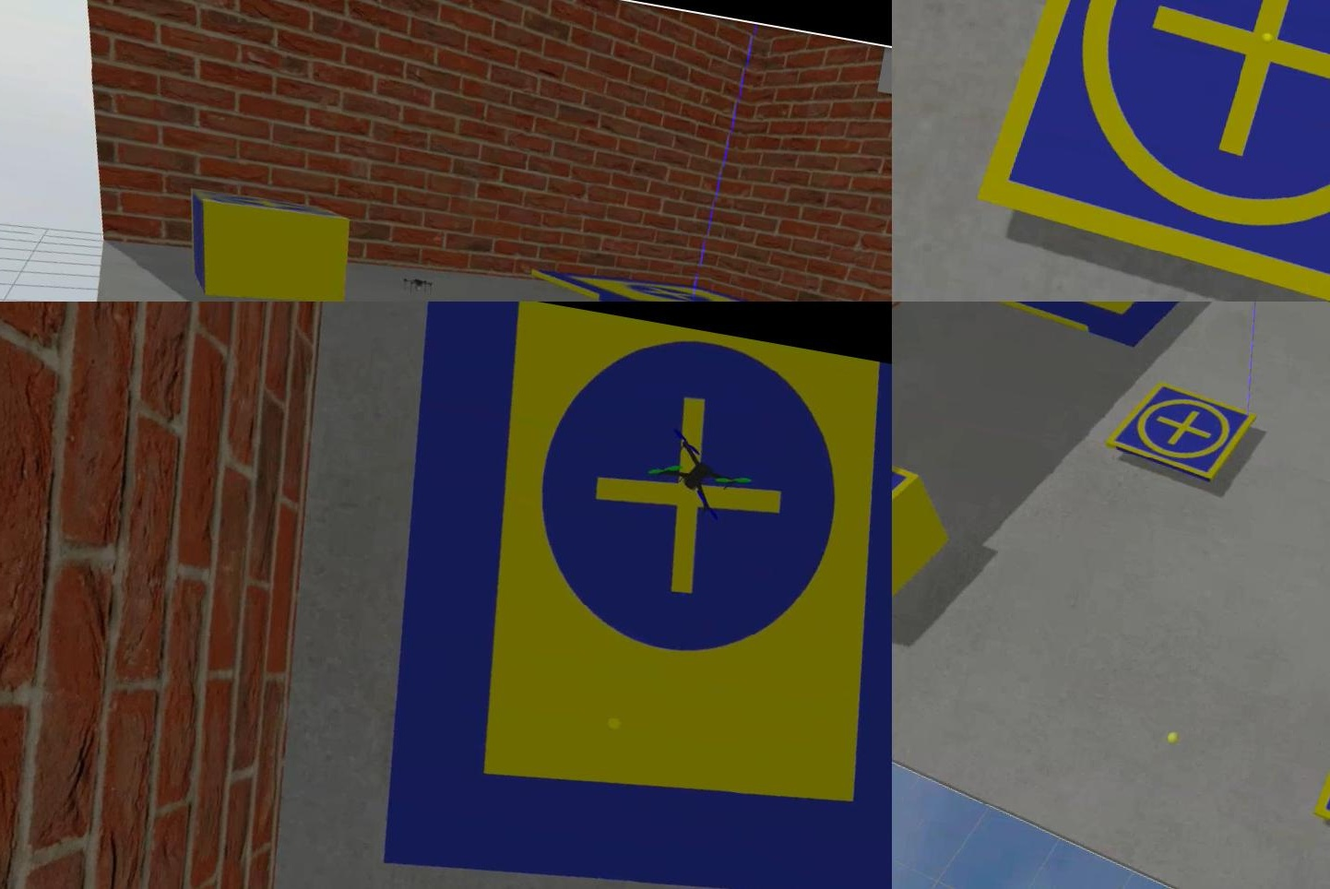large_base: (323, 302, 891, 889), (519, 251, 813, 302), (946, 302, 1196, 352)
small_base: (966, 1, 1328, 302), (1100, 382, 1250, 486), (183, 179, 352, 236)
